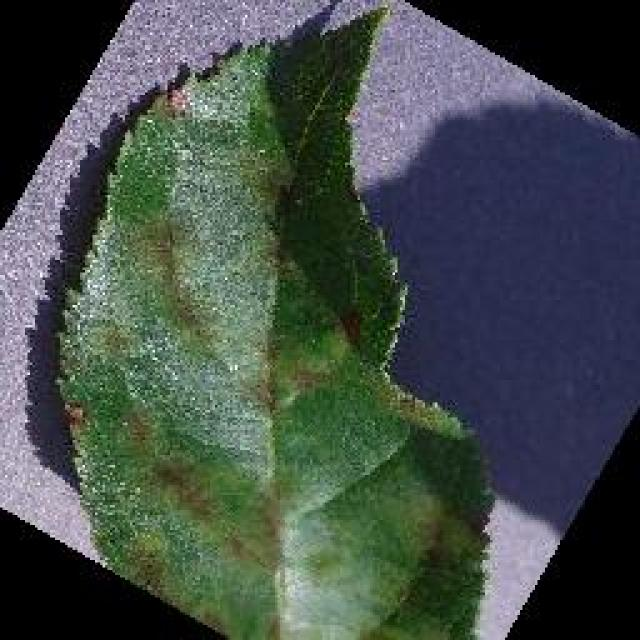apple scab disease: (50, 0, 498, 638)
